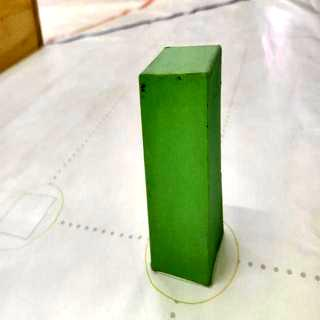greenbox: (138, 44, 225, 289)
